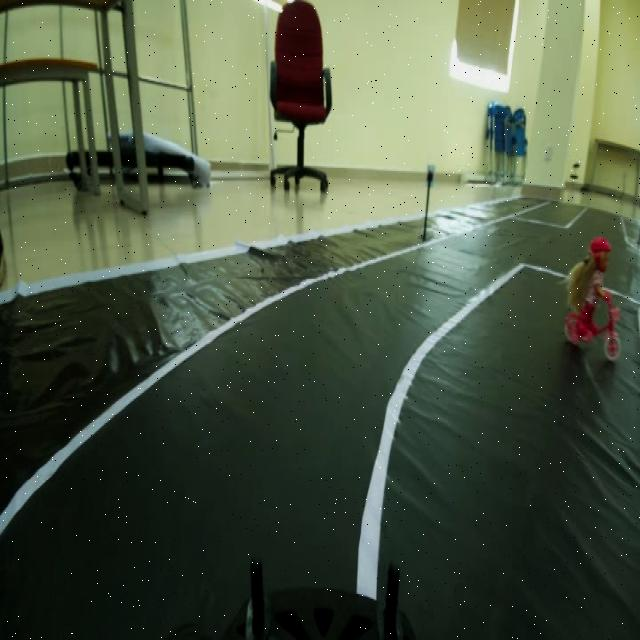pedestrian: (568, 231, 618, 354)
